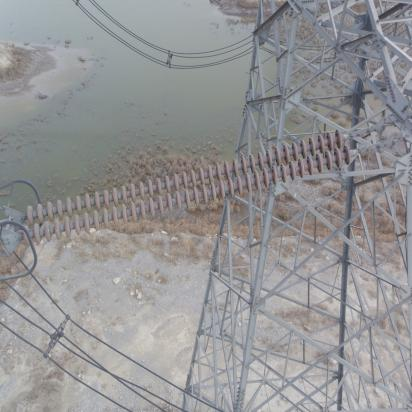insulator: (15, 128, 368, 250)
